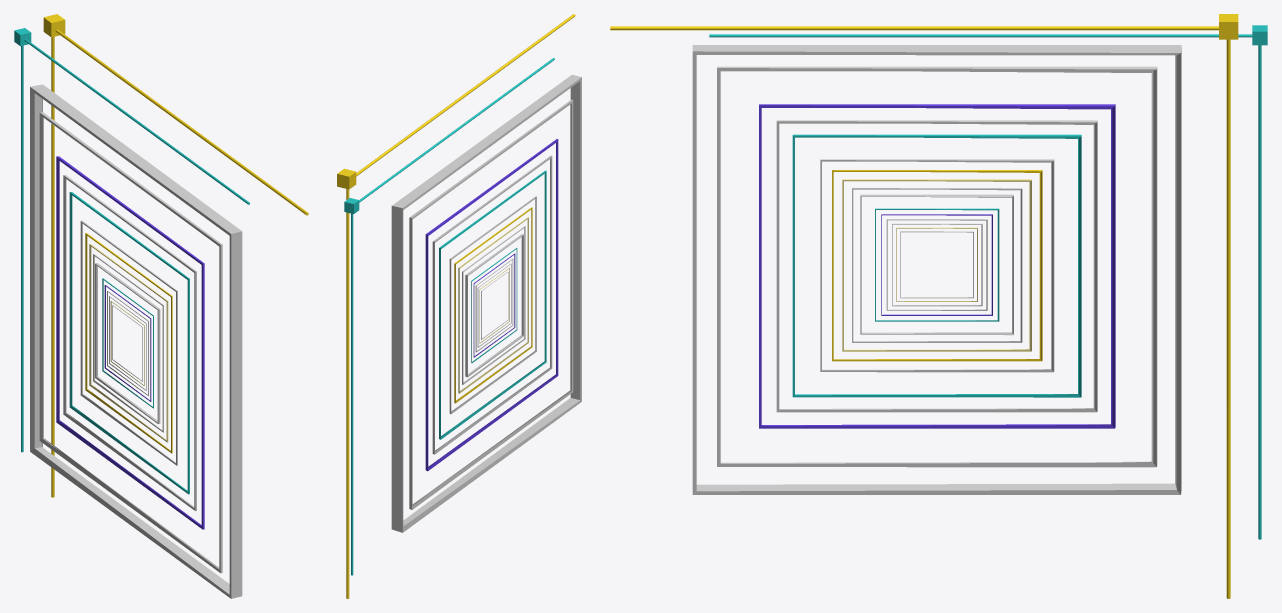
File: Frame.fbx
3 views of the same model, side by side, from view 1: azimuth 30°, elevation 25°; view 2: azimuth 150°, elevation 25°; view 3: azimuth 270°, elevation 25° (orthographic). The views are drawn at different scales.
Parts seen in each view (by area): view 1: Plane.002, Plane.003, Plane.005, Cylinder.003, Plane.006, Plane.007, Cylinder.001, Plane.009, Plane.010, Plane.011, Plane.013, Plane.012 (+2 smaller); view 2: Plane.002, Plane.003, Cylinder.003, Plane.005, Plane.006, Cylinder.001, Plane.007, Plane.009, Plane.013, Plane.010, Plane.011, Plane.012 (+3 smaller); view 3: Plane.002, Plane.003, Cylinder.003, Plane.005, Plane.006, Cylinder.001, Plane.007, Plane.009, Plane.010, Plane.011, Plane.013, Plane.012 (+1 smaller).
Part boxes in pixels (<box>): Plane.002: <box>30,84,242,598</box>; Plane.003: <box>39,112,222,573</box>; Plane.005: <box>56,156,204,529</box>; Cylinder.003: <box>43,14,308,497</box>; Plane.006: <box>63,175,196,510</box>; Plane.007: <box>69,192,189,494</box>; Cylinder.001: <box>14,28,249,452</box>; Plane.009: <box>80,220,177,465</box>; Plane.010: <box>85,233,172,453</box>; Plane.011: <box>89,244,168,442</box>; Plane.013: <box>95,263,160,423</box>; Plane.012: <box>93,254,163,432</box>; Plane.002: <box>391,74,581,532</box>; Plane.003: <box>409,99,573,509</box>; Cylinder.003: <box>337,14,575,598</box>; Plane.005: <box>425,139,558,471</box>; Plane.006: <box>432,155,552,454</box>; Cylinder.001: <box>344,58,554,575</box>; Plane.007: <box>439,170,546,439</box>; Plane.009: <box>449,196,536,414</box>; Plane.013: <box>465,234,523,377</box>; Plane.010: <box>454,207,532,403</box>; Plane.011: <box>458,217,528,393</box>; Plane.012: <box>462,226,525,384</box>; Plane.002: <box>692,45,1181,494</box>; Plane.003: <box>717,66,1157,467</box>; Cylinder.003: <box>610,14,1238,598</box>; Plane.005: <box>759,104,1115,428</box>; Plane.006: <box>776,120,1097,412</box>; Cylinder.001: <box>709,25,1267,539</box>; Plane.007: <box>792,134,1081,397</box>; Plane.009: <box>820,159,1054,372</box>; Plane.010: <box>832,170,1042,361</box>; Plane.011: <box>842,179,1031,351</box>; Plane.013: <box>860,194,1013,335</box>; Plane.012: <box>852,188,1022,342</box>.
Size of what is drawn, in the model's own units: 184 by 1540 by 1579.
